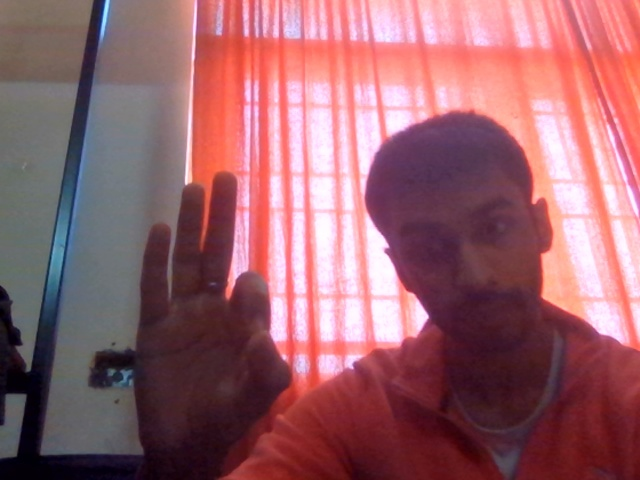F: (125, 169, 307, 480)
